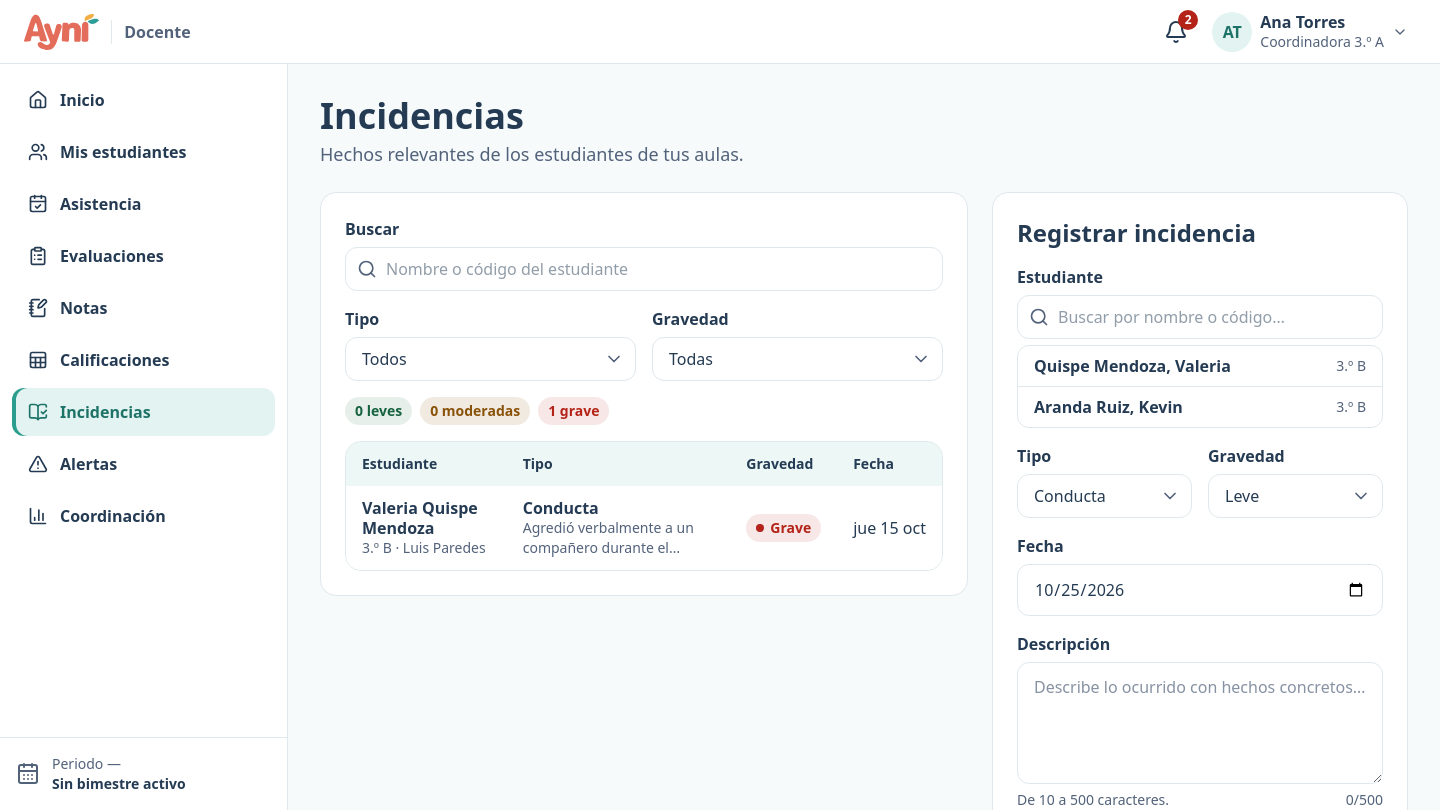
it: Incidencias (RF-49, RF-50) › lista con gravedad, autor y conteo; abre el historial de un estudiante
The image size is (1440, 810).
Expected: the heading "Incidencias" is shown, [320, 91, 524, 140]
Expected: the text "3.º B · Luis Paredes" is shown, [362, 538, 491, 558]
What coordinates should you click on to do the following:
click the button with aria-label "Ver historial de Valeria Quispe Mendoza"
I would click on:
 (426, 518)
Its box is [362, 498, 491, 538].
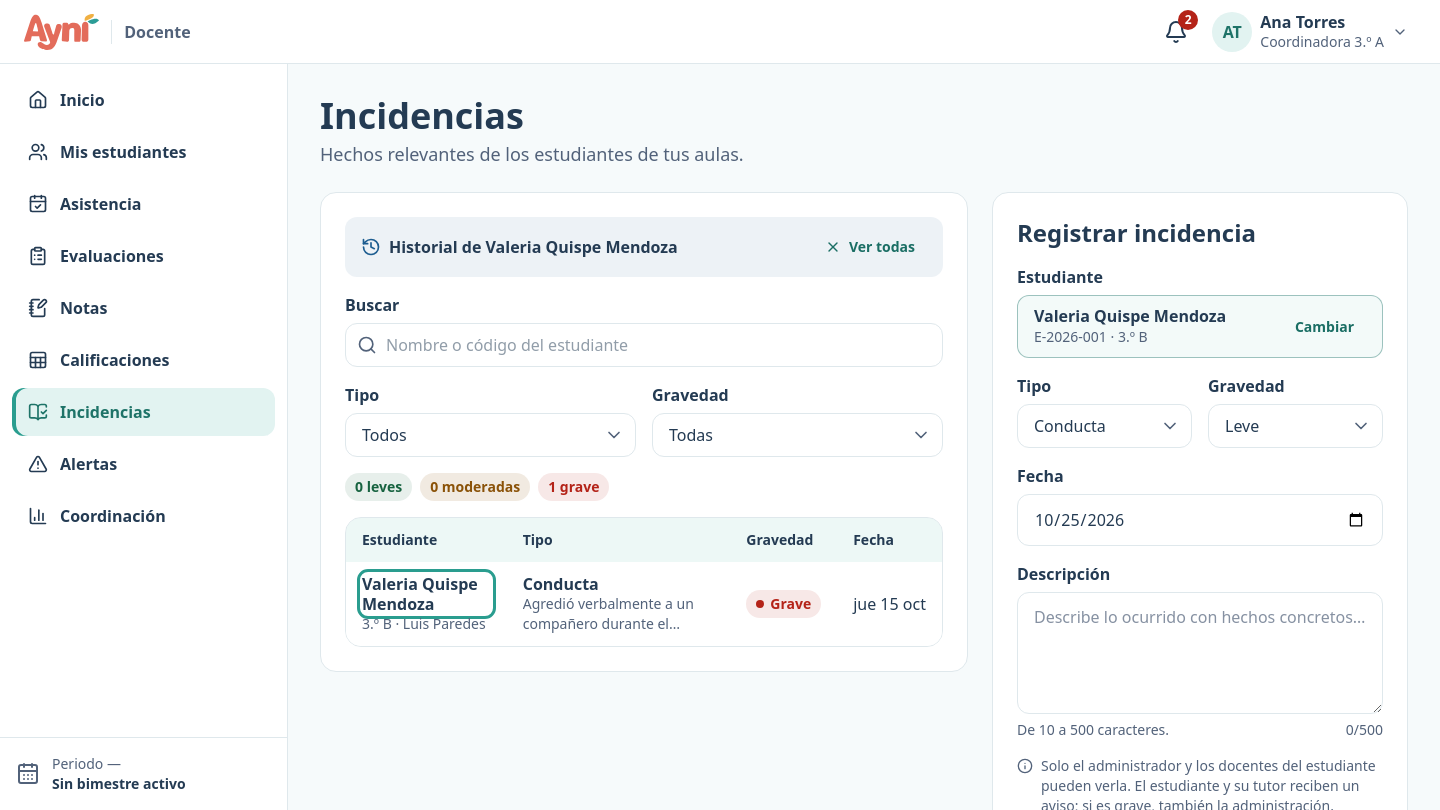
Result: the text "Historial de Valeria Quispe Mendoza" is shown at [361, 235, 678, 259]
Result: the text with test id "estudiante-elegido" reads "Valeria Quispe Mendoza" at [1034, 305, 1226, 327]
